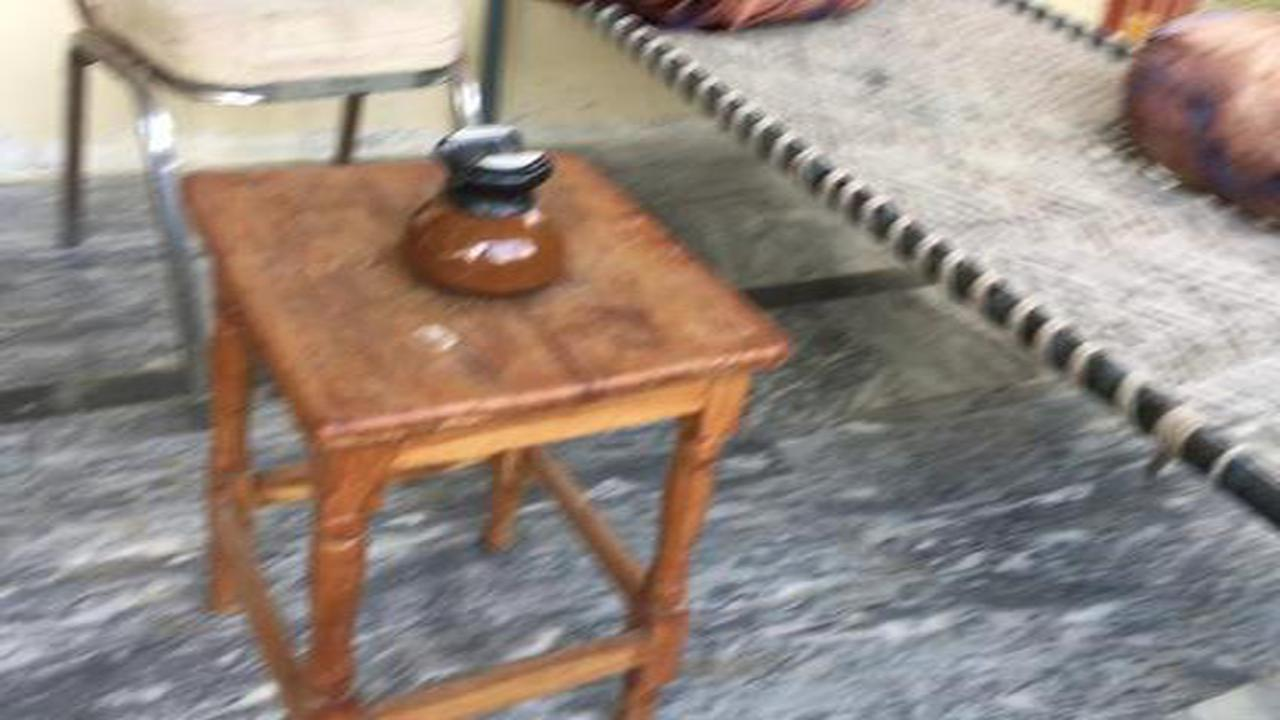insulator_pin: (382, 111, 585, 310)
